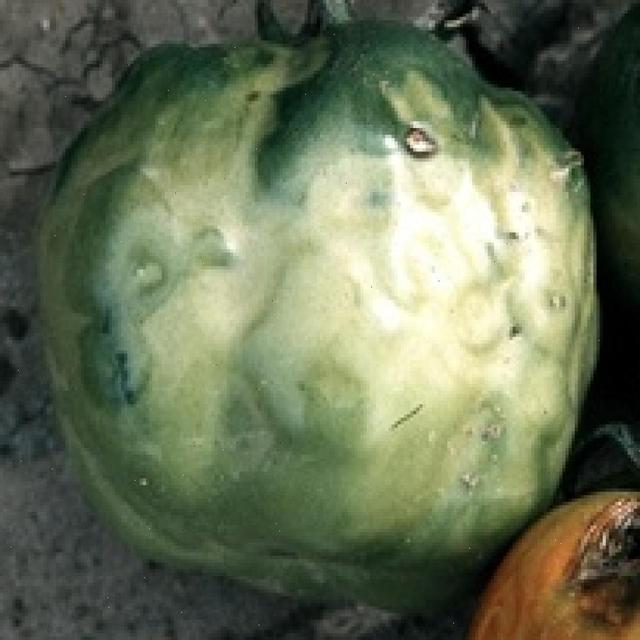Spotted wilt Virus Fruit: (153, 12, 257, 42)
